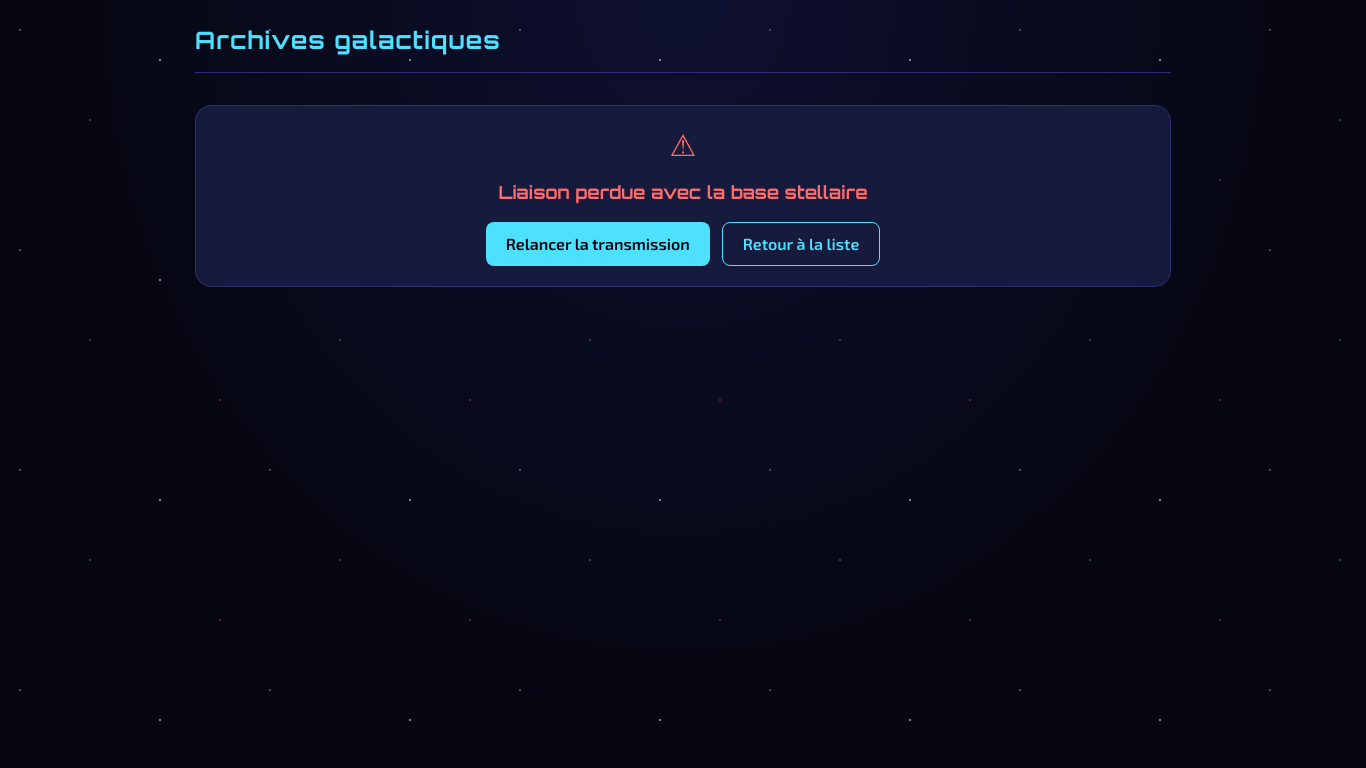
US-04 détail › TA-08 détail : erreur serveur → message d'erreur + Réessayer relance l'appel
The width and height of the screenshot is (1366, 768).
Expected: the message shows "Liaison perdue avec la base stellaire", [498,181,868,203]
Click the button "Relancer la transmission".
click(598, 244)  # box [486,222,710,266]
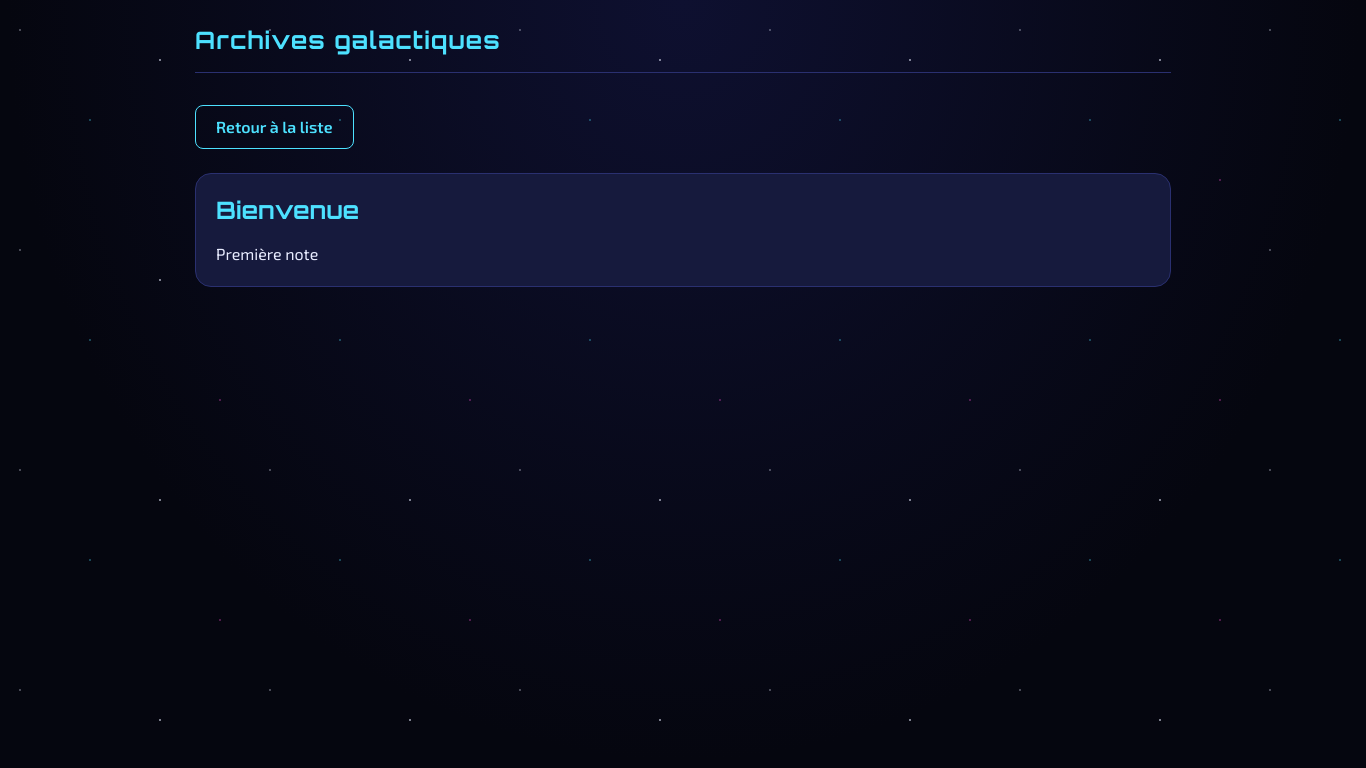
Expected: the heading "Bienvenue" is shown, [216,195,359,225]
